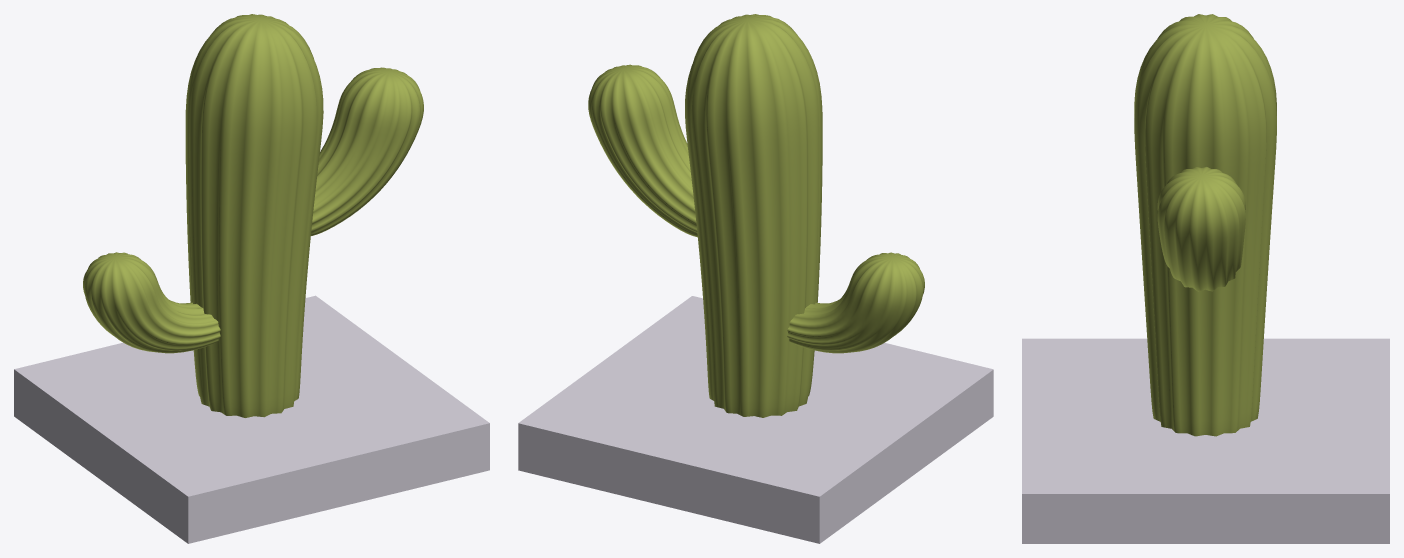
File: desert_big_cactus.fbx
The picture shows the model from 3 angles, left to right: view 1: azimuth 30°, elevation 25°; view 2: azimuth 150°, elevation 25°; view 3: azimuth 270°, elevation 25°; orthographic projection. The views are drawn at different scales.
Visible parts, largest first — view 1: cactus, Cube.029; view 2: cactus, Cube.029; view 3: Cube.029, cactus.
Part boxes in pixels (x1=…): cactus: x1=83, y1=14, x2=423, y2=417; Cube.029: x1=14, y1=295, x2=489, y2=543; cactus: x1=588, y1=14, x2=924, y2=417; Cube.029: x1=518, y1=296, x2=993, y2=543; Cube.029: x1=1022, y1=338, x2=1389, y2=543; cactus: x1=1134, y1=14, x2=1276, y2=436.
Bounding box in the file's own units: 176 × 218 × 162.
